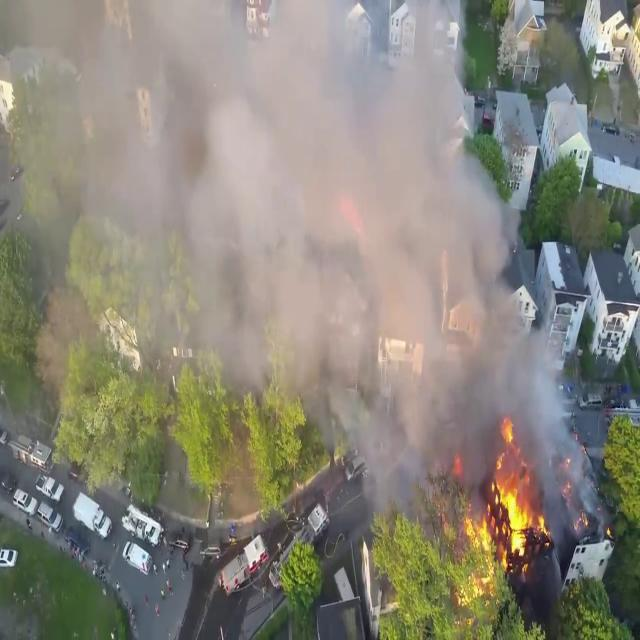Fire: (463, 430, 549, 562)
Smoke: (4, 1, 548, 538)
